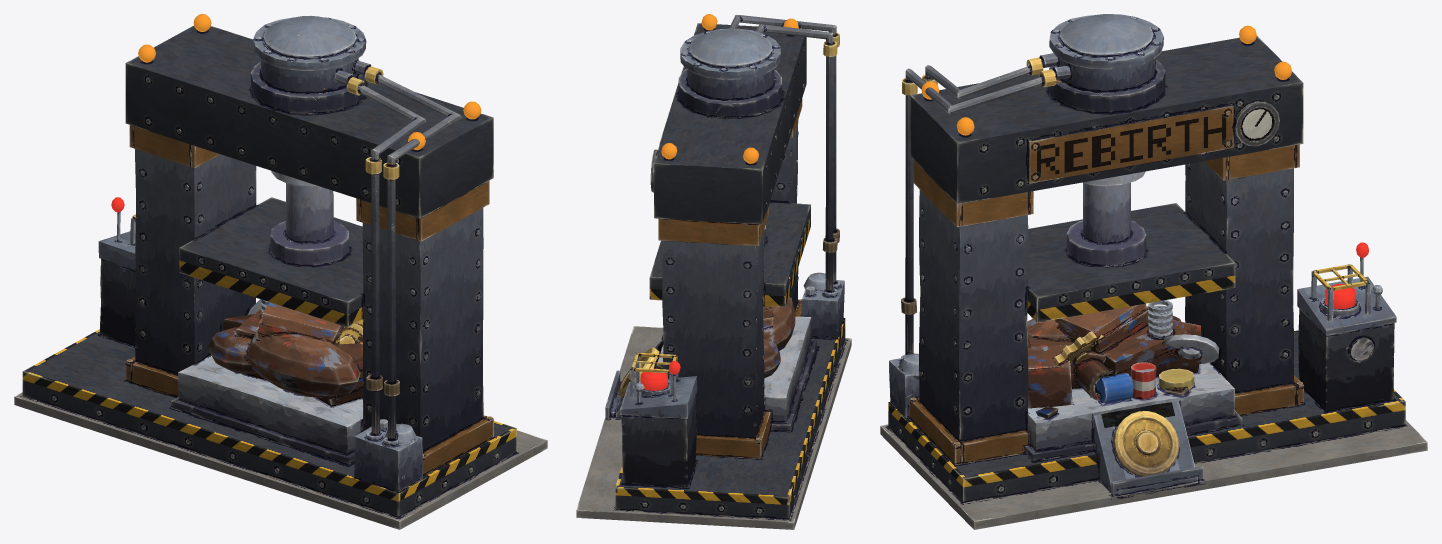
3 renders of one model, left to right at view 1: azimuth 30°, elevation 25°; view 2: azimuth 150°, elevation 25°; view 3: azimuth 270°, elevation 25°, orthographic. The views are drawn at different scales.
Parts seen in each view (by area): view 1: Columns, Crown, Plinth, Platen, Pile, Anvil, Cylinder, Bands, Hoses, Ram, Console, Pump (+3 smaller); view 2: Plinth, Columns, Crown, Cylinder, Console, Platen, Bands, Hoses, Anvil, Pump, Pile, Beacons (+5 smaller); view 3: Columns, Crown, Plinth, Platen, Console, Pile, Cylinder, Bands, Anvil, Ram, PileJunk, Tray (+7 smaller).
Part boxes in pixels (x1,y1,x2,y2): Columns: (135,149,483,451); Crown: (125,25,493,218); Plinth: (14,329,547,529); Platen: (179,197,363,327); Pile: (207,302,362,406); Anvil: (170,355,362,464); Cylinder: (250,15,371,114); Bands: (125,125,493,476); Hoses: (357,69,461,440); Ram: (270,171,348,265); Console: (98,212,135,346); Pump: (354,419,422,491); Plinth: (576,318,851,529); Columns: (662,120,798,438); Crown: (650,23,806,224); Cylinder: (678,28,782,118); Console: (620,353,697,487); Platen: (649,202,810,307); Bands: (658,98,802,458); Hoses: (729,14,836,292); Anvil: (655,316,816,431); Pump: (801,272,844,339); Pile: (655,296,795,378); Beacons: (661,14,798,163); Columns: (919,161,1293,441); Crown: (910,36,1303,204); Plinth: (880,330,1427,529); Platen: (1027,203,1235,322); Console: (1297,257,1396,412); Pile: (1027,303,1201,419); Cylinder: (1039,14,1165,113); Bands: (909,144,1303,465); Anvil: (1024,362,1242,461); Ram: (1067,171,1146,266); PileJunk: (1053,300,1219,403); Tray: (1093,401,1203,496).
Bounding box in the file's own units: 13.51 × 15.19 × 17.84.
Materials: 19 (19 with a texture image).
